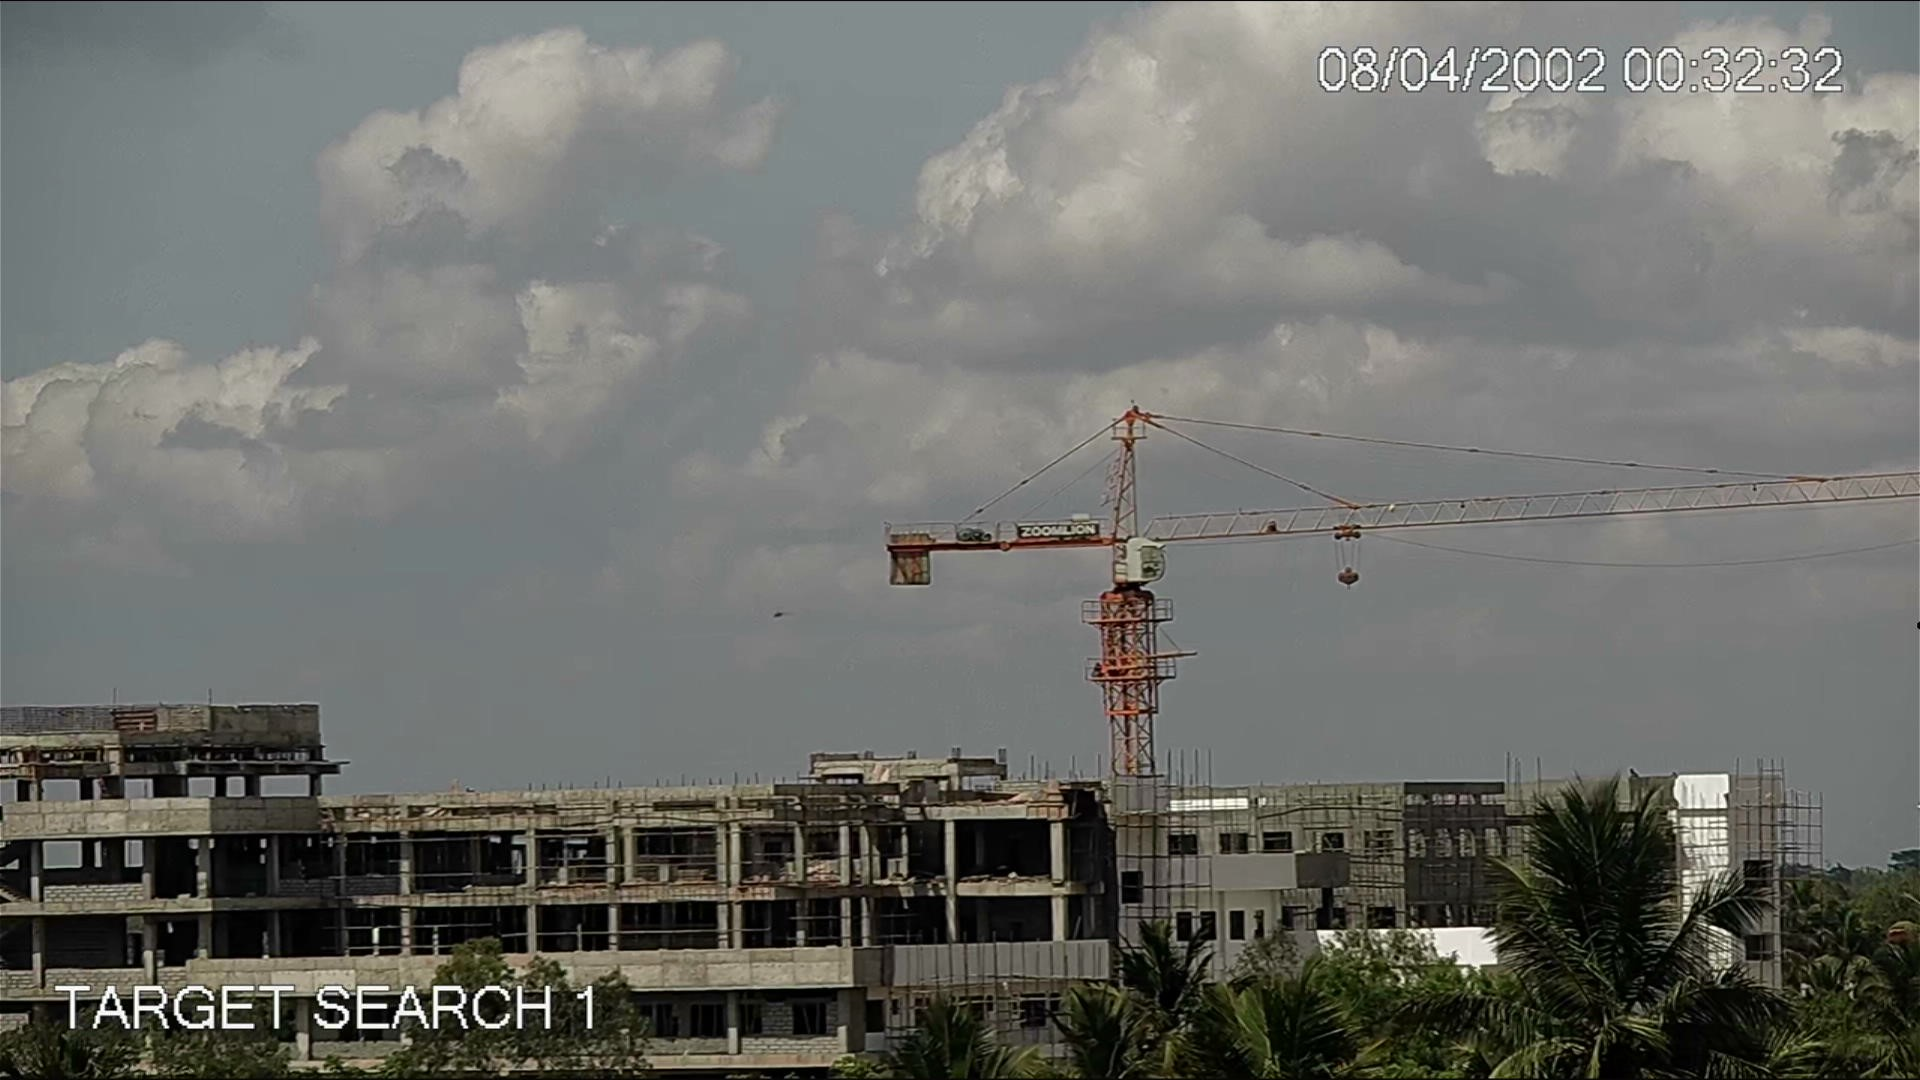SU_30: (769, 608, 795, 621)
